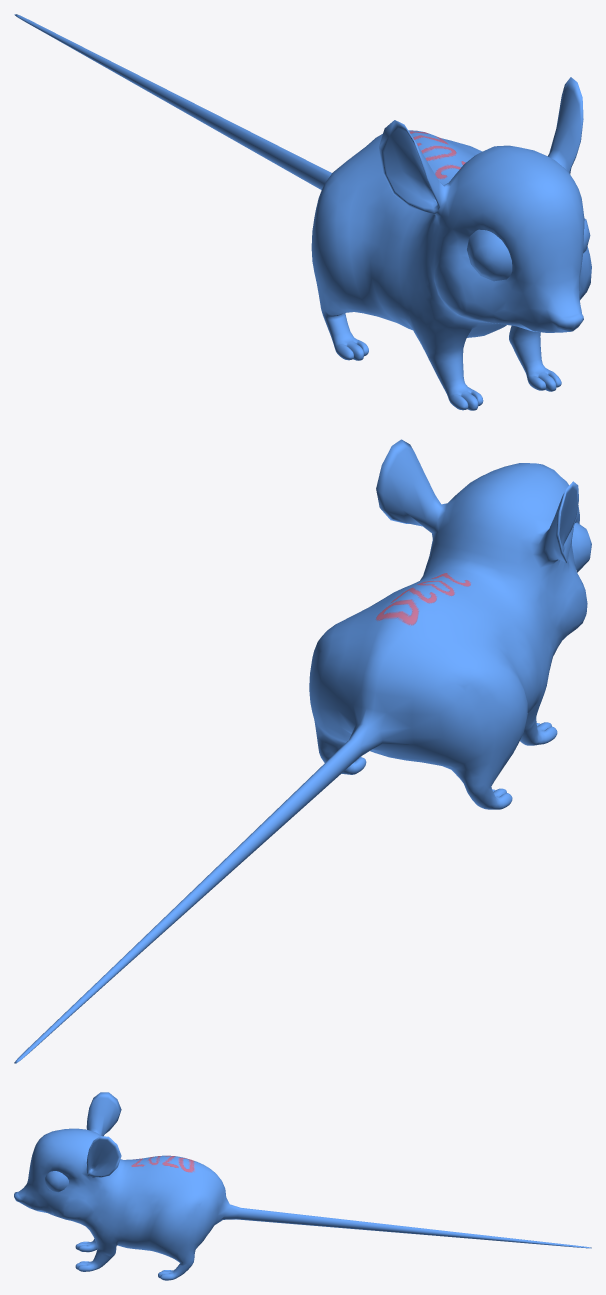
Rendered from mouse4.gltf.
The picture shows the model from 3 angles, top to bottom: view 1: azimuth 30°, elevation 25°; view 2: azimuth 150°, elevation 25°; view 3: azimuth 270°, elevation 25°; orthographic projection. The views are drawn at different scales.
Parts seen in each view (by area): view 1: mouse_walk v1; view 2: mouse_walk v1; view 3: mouse_walk v1.
Boxes of the visible parts, x1,y1,x2,y2 form: mouse_walk v1: (14,14,591,410); mouse_walk v1: (14,439,591,1063); mouse_walk v1: (14,1092,591,1280).
Bounding box in the file's own units: 4.3 × 5.74 × 20.62.
Materials: 1 (1 with a texture image).
